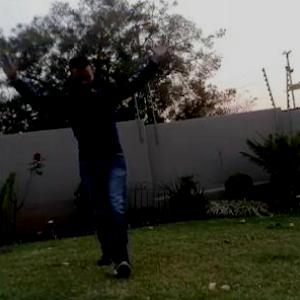takeoff: (1, 40, 169, 258)
